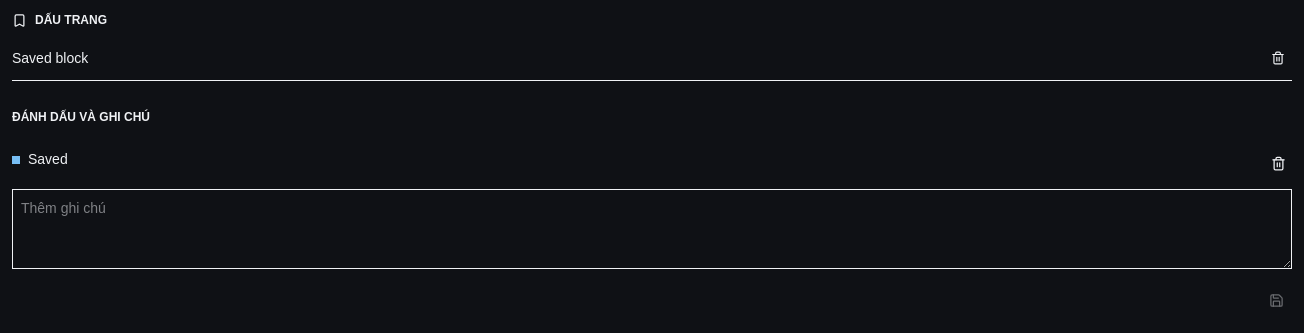
Test case: reader annotation tools › adds and autosave-statuses a note
Type "My note" into the text box with placeholder "Thêm ghi chú" at (652, 229), box [12, 189, 1292, 269]
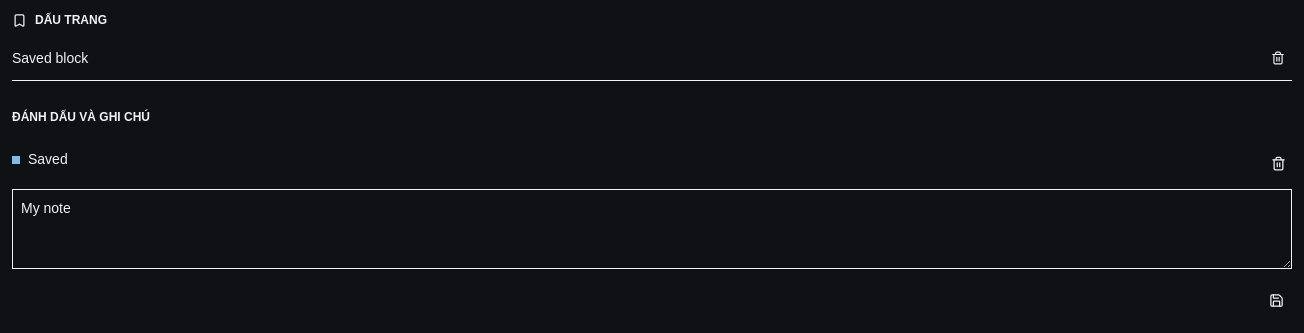
Click the button named "Lưu ghi chú" at (1276, 300), box [1260, 284, 1292, 316]
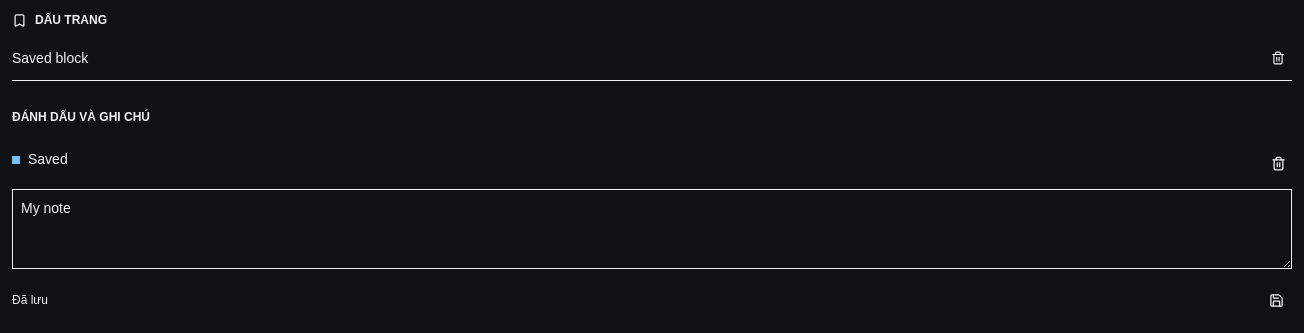
expect the text "Đã lưu" is shown: met, box [12, 292, 48, 308]
